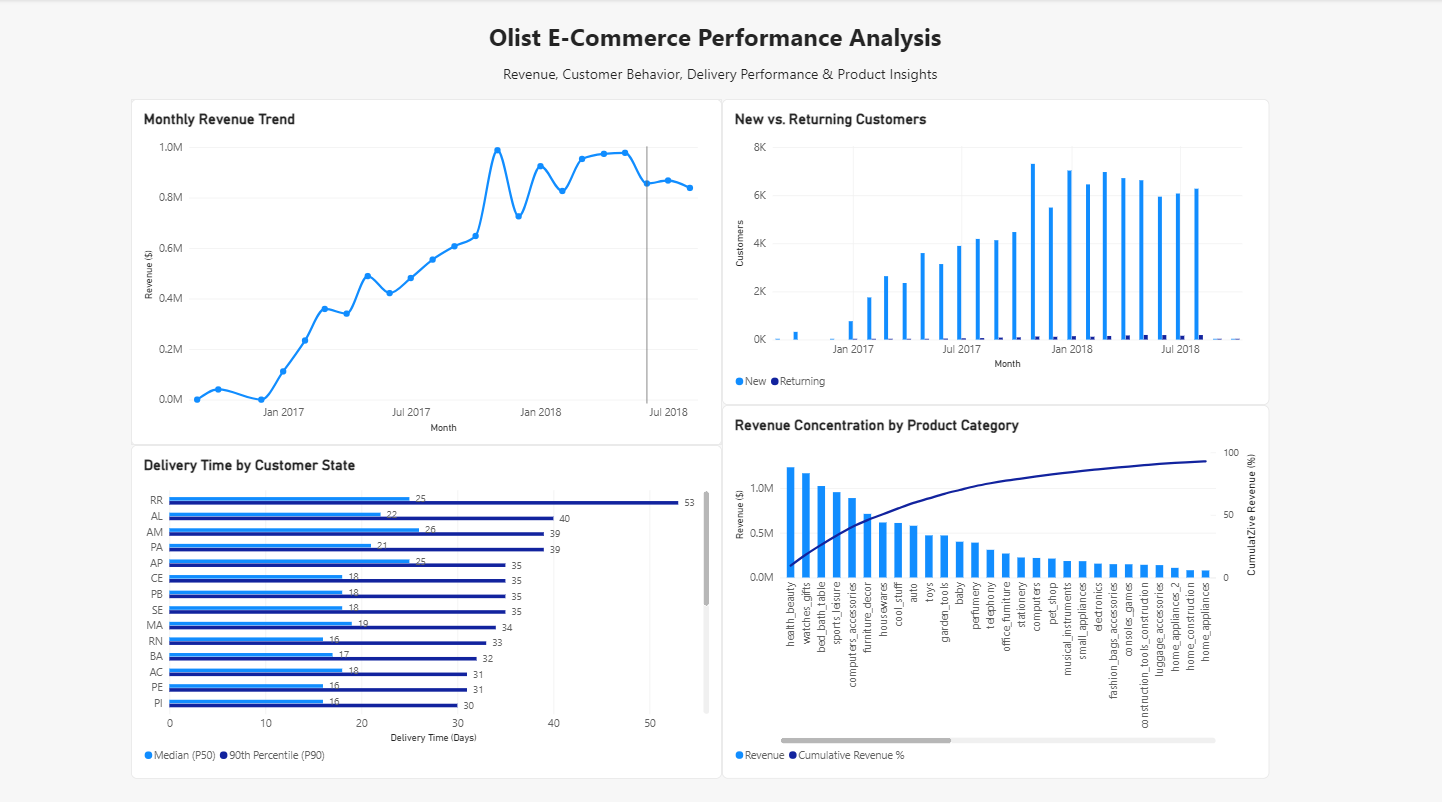

Layout of this report page (visuals, bound fields, positions):
{"tool":"powerbi","page":{"name":"Page 1","canvas":[1920,1080],"ordinal":0},"visuals":[{"type":"lineChart","title":"Monthly Revenue Trend ","fields":{"Category":["monthly_revenue.month"],"Y":["Sum(monthly_revenue.monthly_revenue)"]},"box":[173.6,132.8,786.4,461],"z":0},{"type":"clusteredBarChart","title":"Delivery Time by Customer State","fields":{"Category":["delivery_by_state.customer_state"],"Y":["Sum(delivery_by_state.p50_delivery_days)","Sum(delivery_by_state.p90_delivery_days)"]},"box":[173.6,593.8,786.4,443.5],"z":1000},{"type":"clusteredColumnChart","title":"New vs. Returning Customers","fields":{"Category":["new_vs_returning_customers.month"],"Series":["new_vs_returning_customers.customer_type"],"Y":["Sum(new_vs_returning_customers.customer_count)"]},"box":[960.3,133,727.5,407],"z":2000},{"type":"lineClusteredColumnComboChart","title":"Revenue Concentration by Product Category","fields":{"Category":["category_revenue_pareto.category"],"Y":["Sum(category_revenue_pareto.revenue)"],"Y2":["Sum(category_revenue_pareto.cumulative_revenue_pct)"]},"box":[960.3,540,727.5,497.4],"z":3000},{"type":"textbox","box":[650.7,27.7,617.1,58.4],"z":4000},{"type":"textbox","box":[669.7,86.1,579.2,46.7],"z":5000}]}

Visuals, with their boxes in screenshot pixels (x1, y1, x2, y2), scaled from the page's 1920x1080 canvas onto the 1442x802 screenshot:
"Monthly Revenue Trend " lineChart: 130, 99, 721, 441
"Delivery Time by Customer State" clusteredBarChart: 130, 441, 721, 770
"New vs. Returning Customers" clusteredColumnChart: 721, 99, 1268, 401
"Revenue Concentration by Product Category" lineClusteredColumnComboChart: 721, 401, 1268, 770
textbox: 489, 21, 952, 64
textbox: 503, 64, 938, 99
